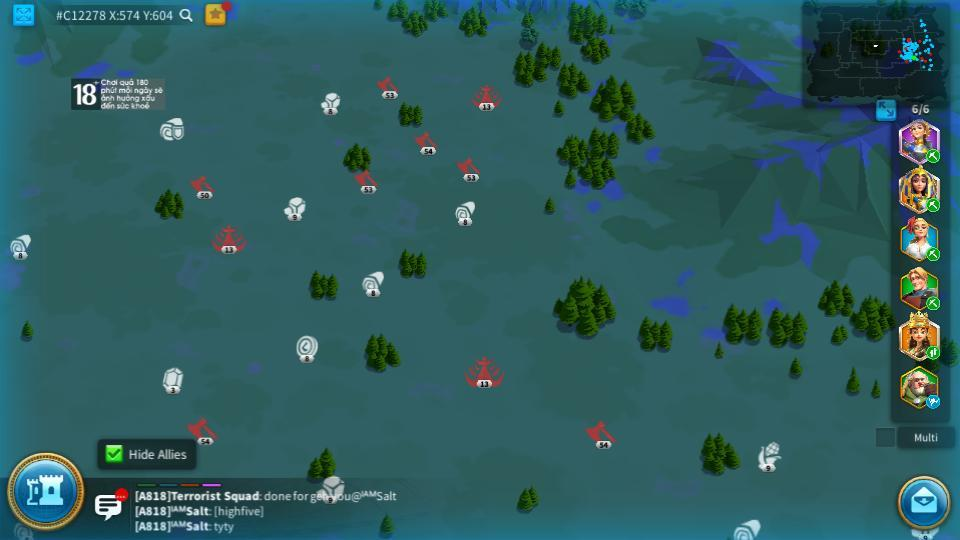gem-z-out: (162, 367, 184, 393)
march_farming: (925, 297, 941, 310), (925, 248, 941, 260)
march_idle: (926, 396, 942, 408)
march_marching: (925, 197, 941, 212), (923, 150, 940, 162), (925, 347, 941, 359)
